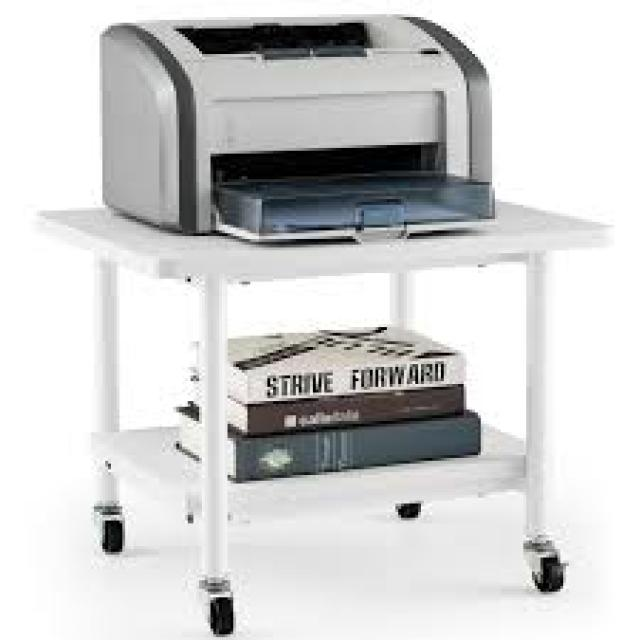printer: (97, 11, 495, 242)
